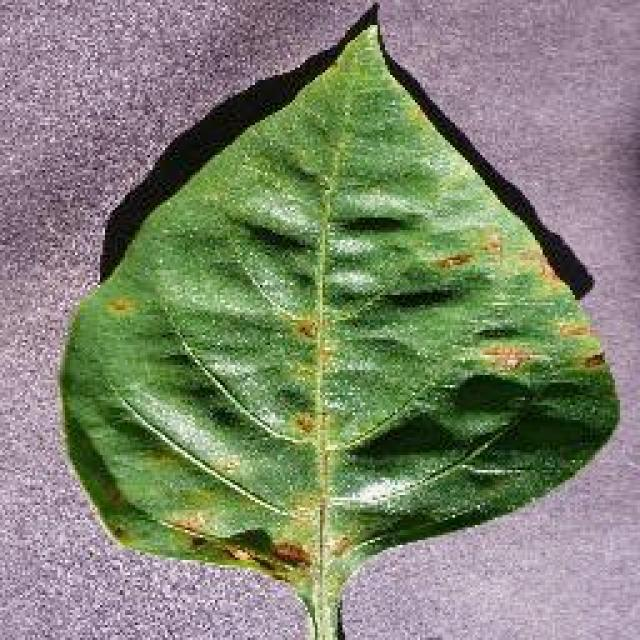Bercak Daun Serkospora: (55, 0, 620, 638)
